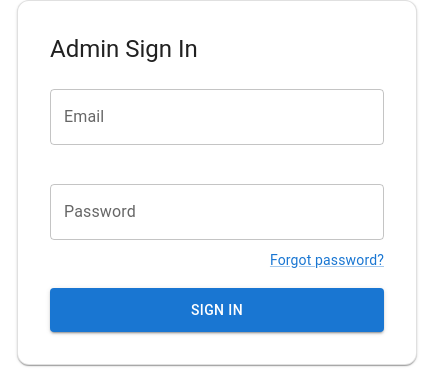
Test: LoginPage › shows field-level error on blur when email is invalid
The image size is (435, 384).
In the field labelled "Email": [217, 117] box [50,89,384,145], type "not-an-email"
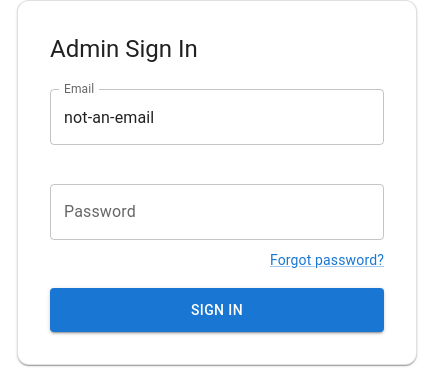
Leave the field labelled "Email", box [50,89,384,145]
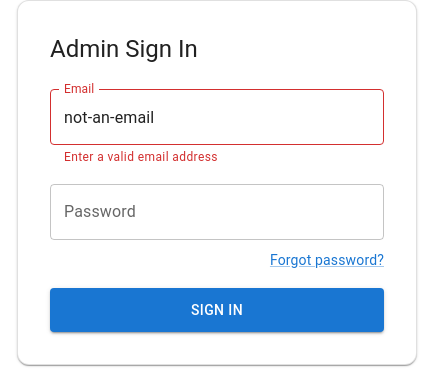
Check: the text "Enter a valid email address" is shown, box [64,150,218,164]
